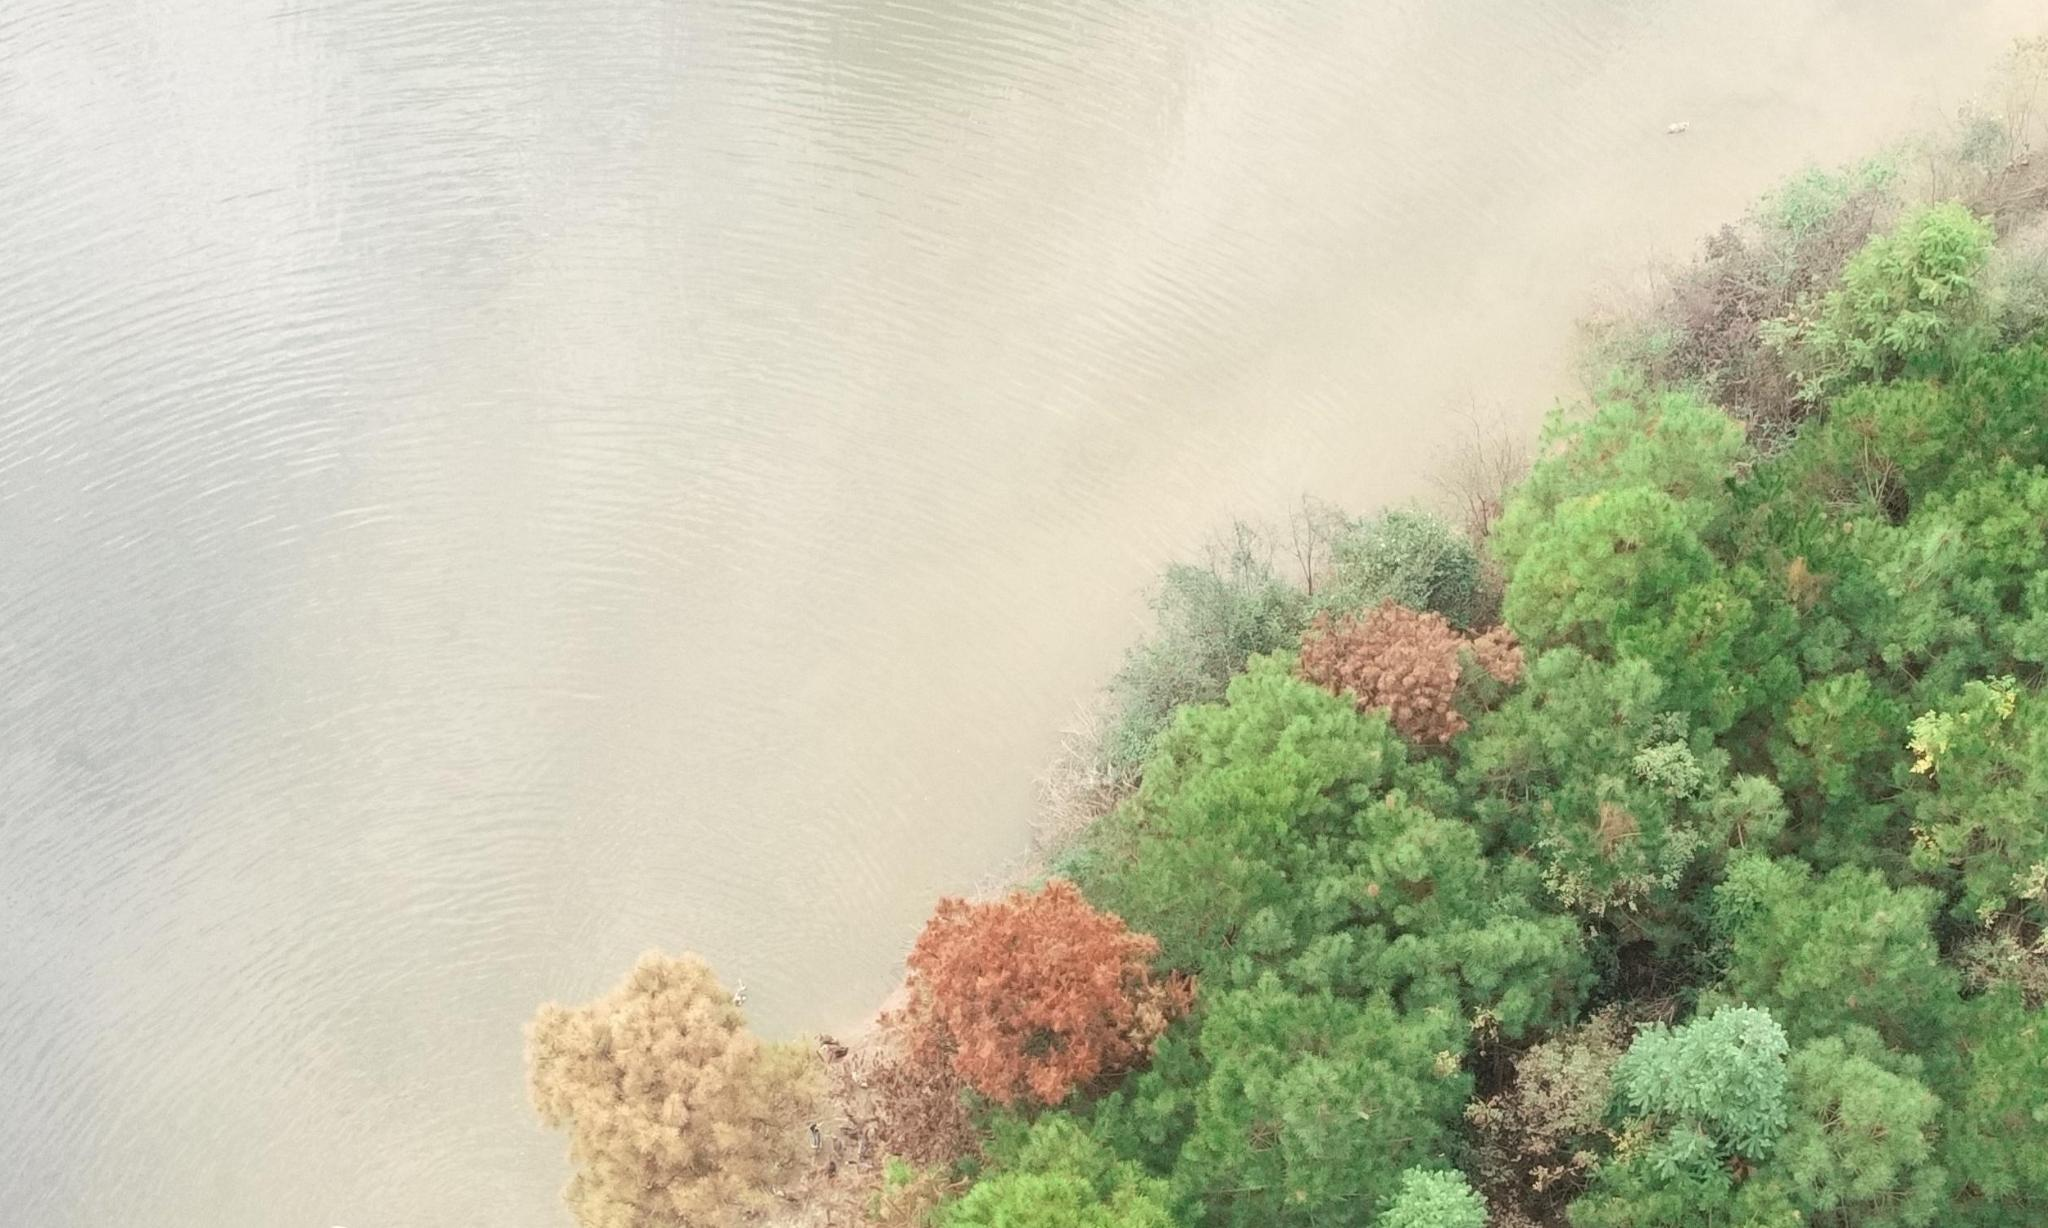heavy: (507, 941, 823, 1210), (898, 878, 1186, 1100), (1286, 599, 1524, 748)
